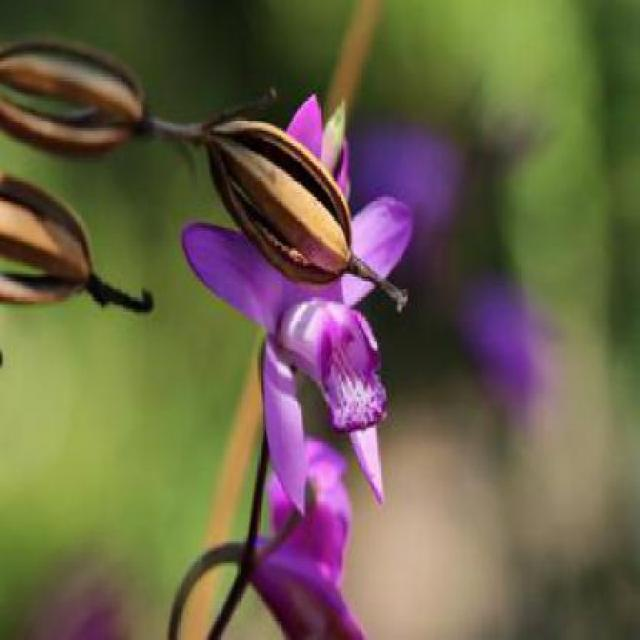Flower: (181, 95, 413, 519)
